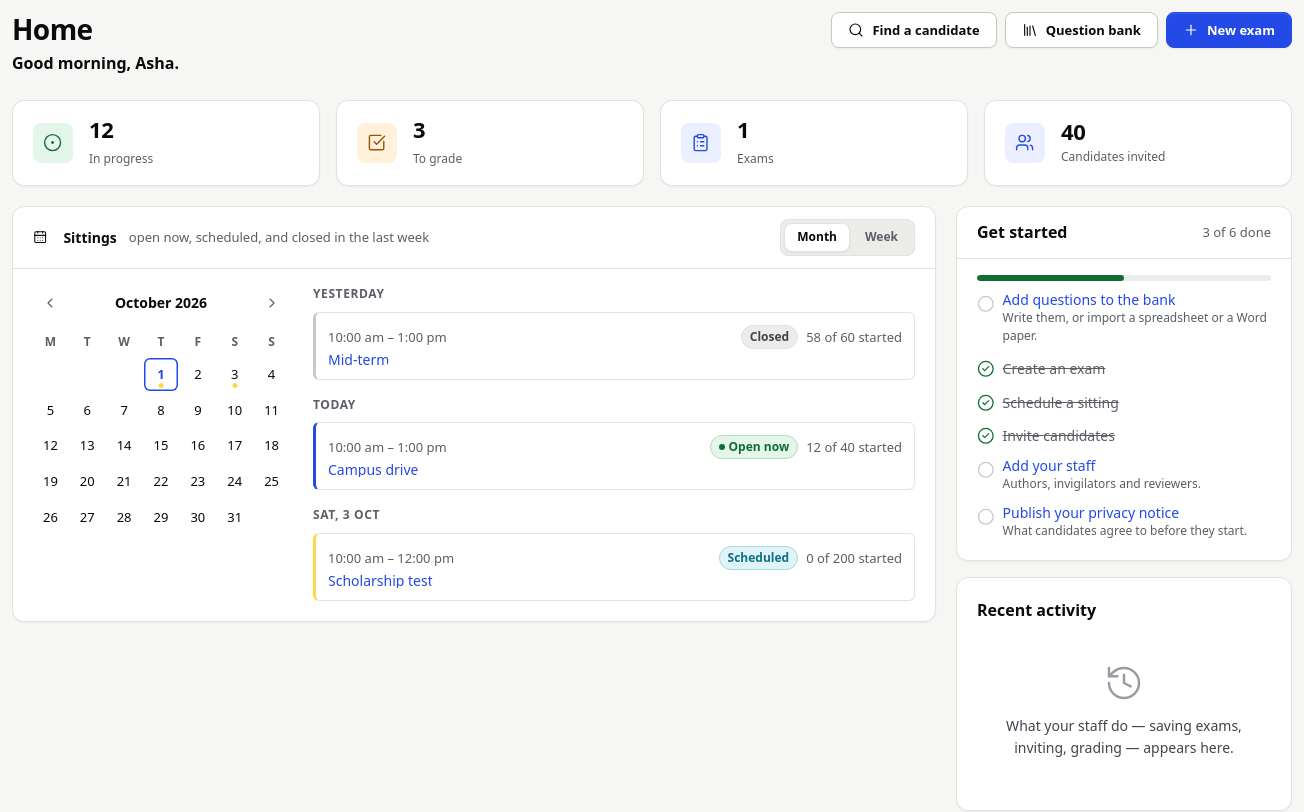
Test case: the home calendar › moves between months
What coordinates should you click on to do the following:
click the button named "Next month"
I would click on:
 (272, 303)
Its box is [255,285,289,321].
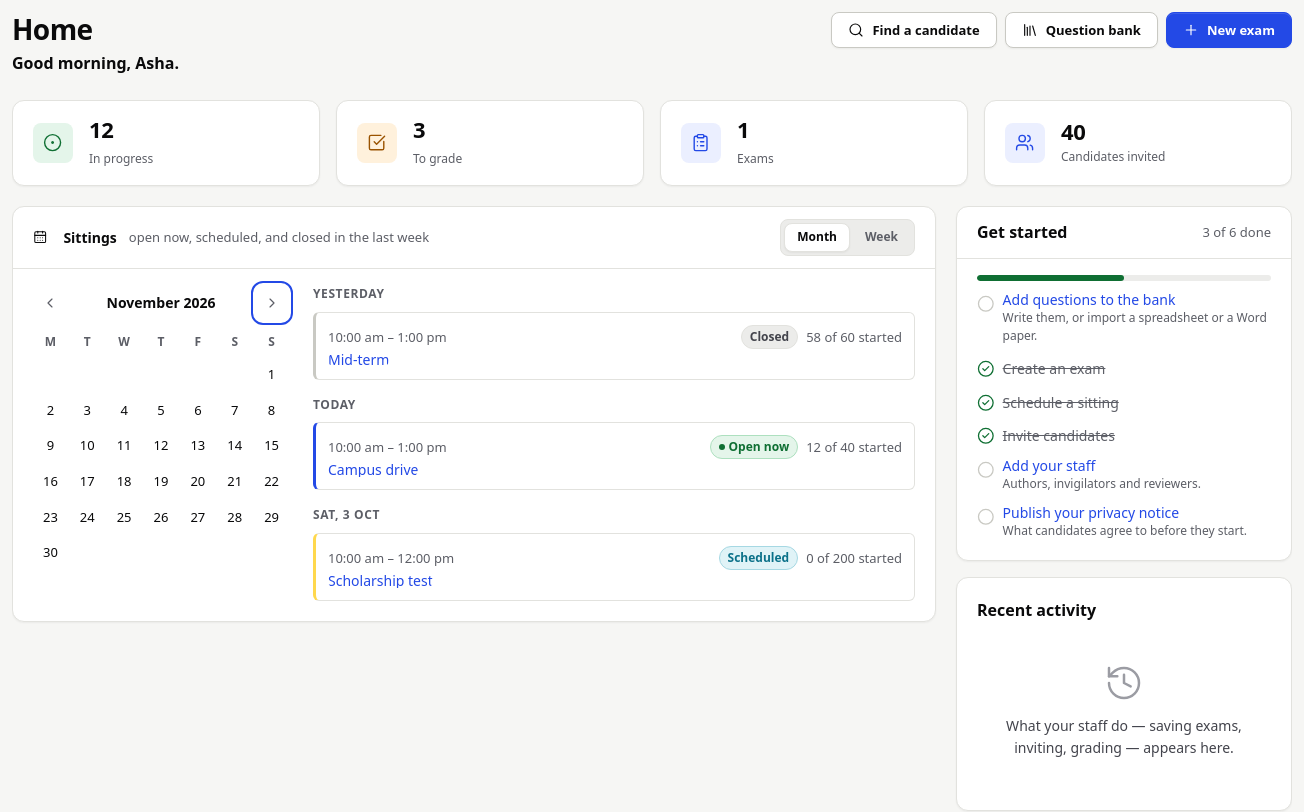
Expected: the element "November 2026" is shown, [33,285,289,601]
